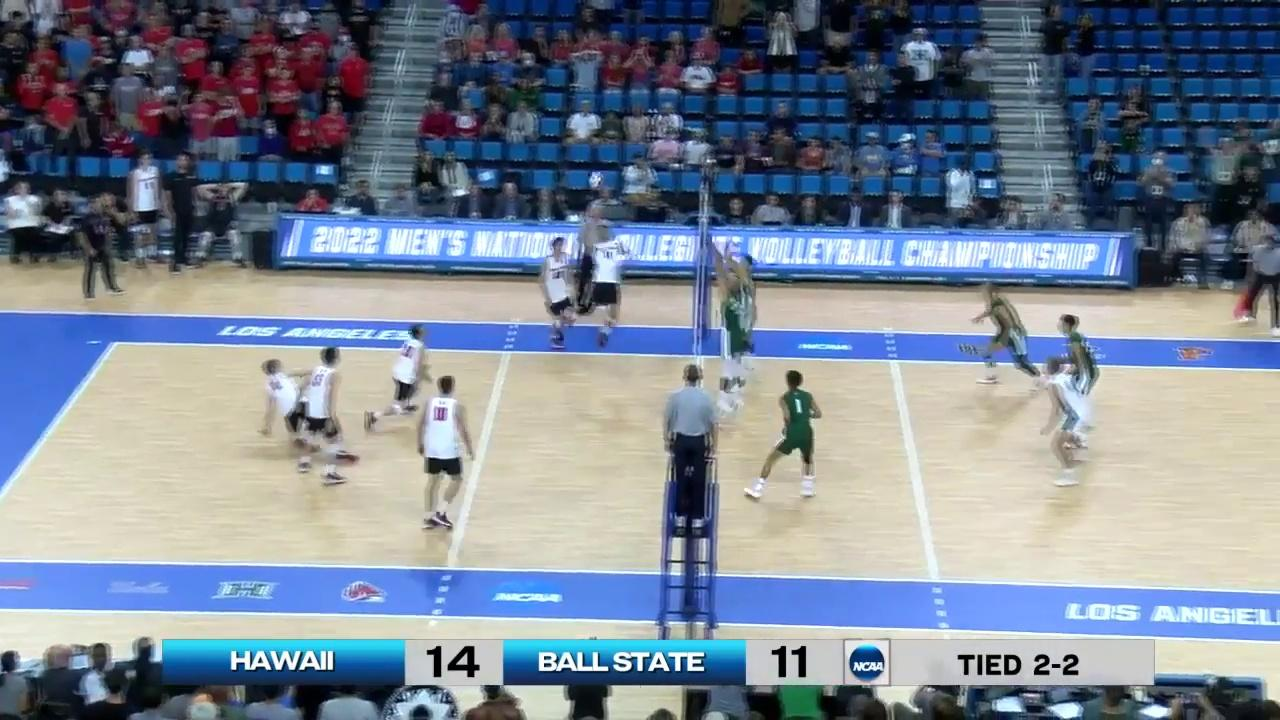player: (258, 359, 359, 463), (748, 374, 818, 502), (414, 376, 472, 529), (292, 346, 352, 484), (965, 282, 1041, 389), (1046, 312, 1102, 450), (1034, 356, 1091, 489), (566, 226, 628, 343), (365, 325, 431, 430), (536, 239, 583, 347), (718, 244, 758, 369), (716, 275, 749, 413)
refree: (661, 367, 724, 525), (1237, 236, 1280, 328)
